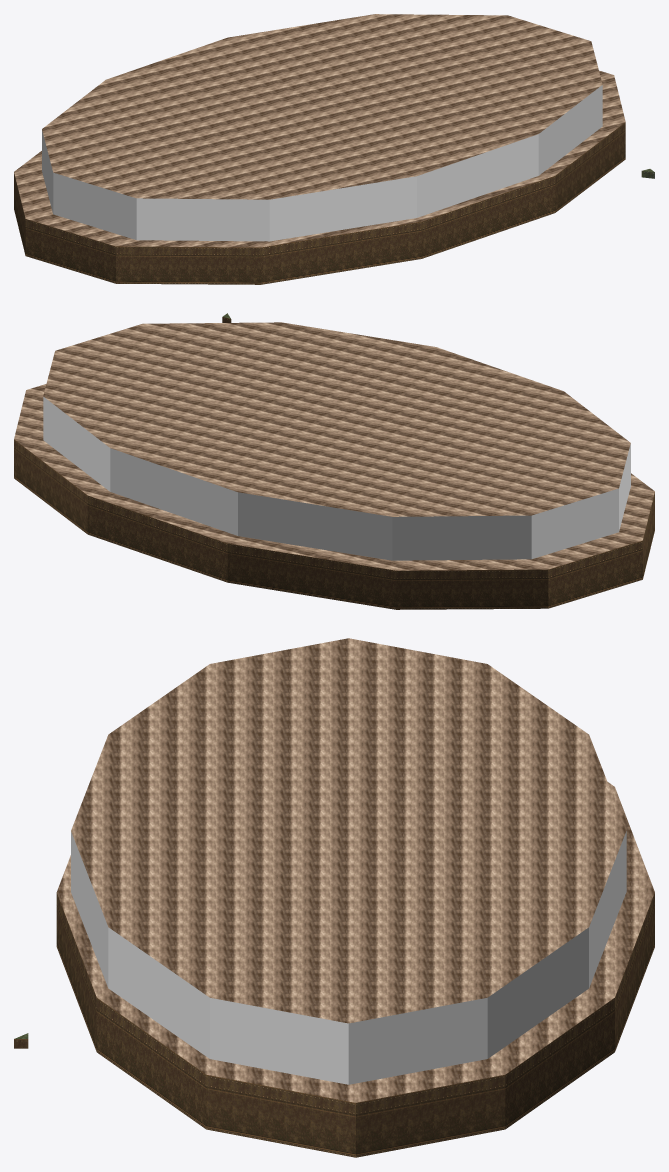
The model's file is ArenaMap.fbx.
The picture shows the model from 3 angles, top to bottom: view 1: azimuth 30°, elevation 25°; view 2: azimuth 150°, elevation 25°; view 3: azimuth 270°, elevation 25°; orthographic projection. The views are drawn at different scales.
Visible parts, largest first — view 1: MAP01; view 2: MAP01; view 3: MAP01.
Part boxes in pixels (x1,y1,x2,y2): MAP01: (14,14,654,284); MAP01: (14,313,654,609); MAP01: (14,638,654,1157).
Size of the model in its own units: 22400 by 2880 by 14400.
Materials: 9 (8 with a texture image).
